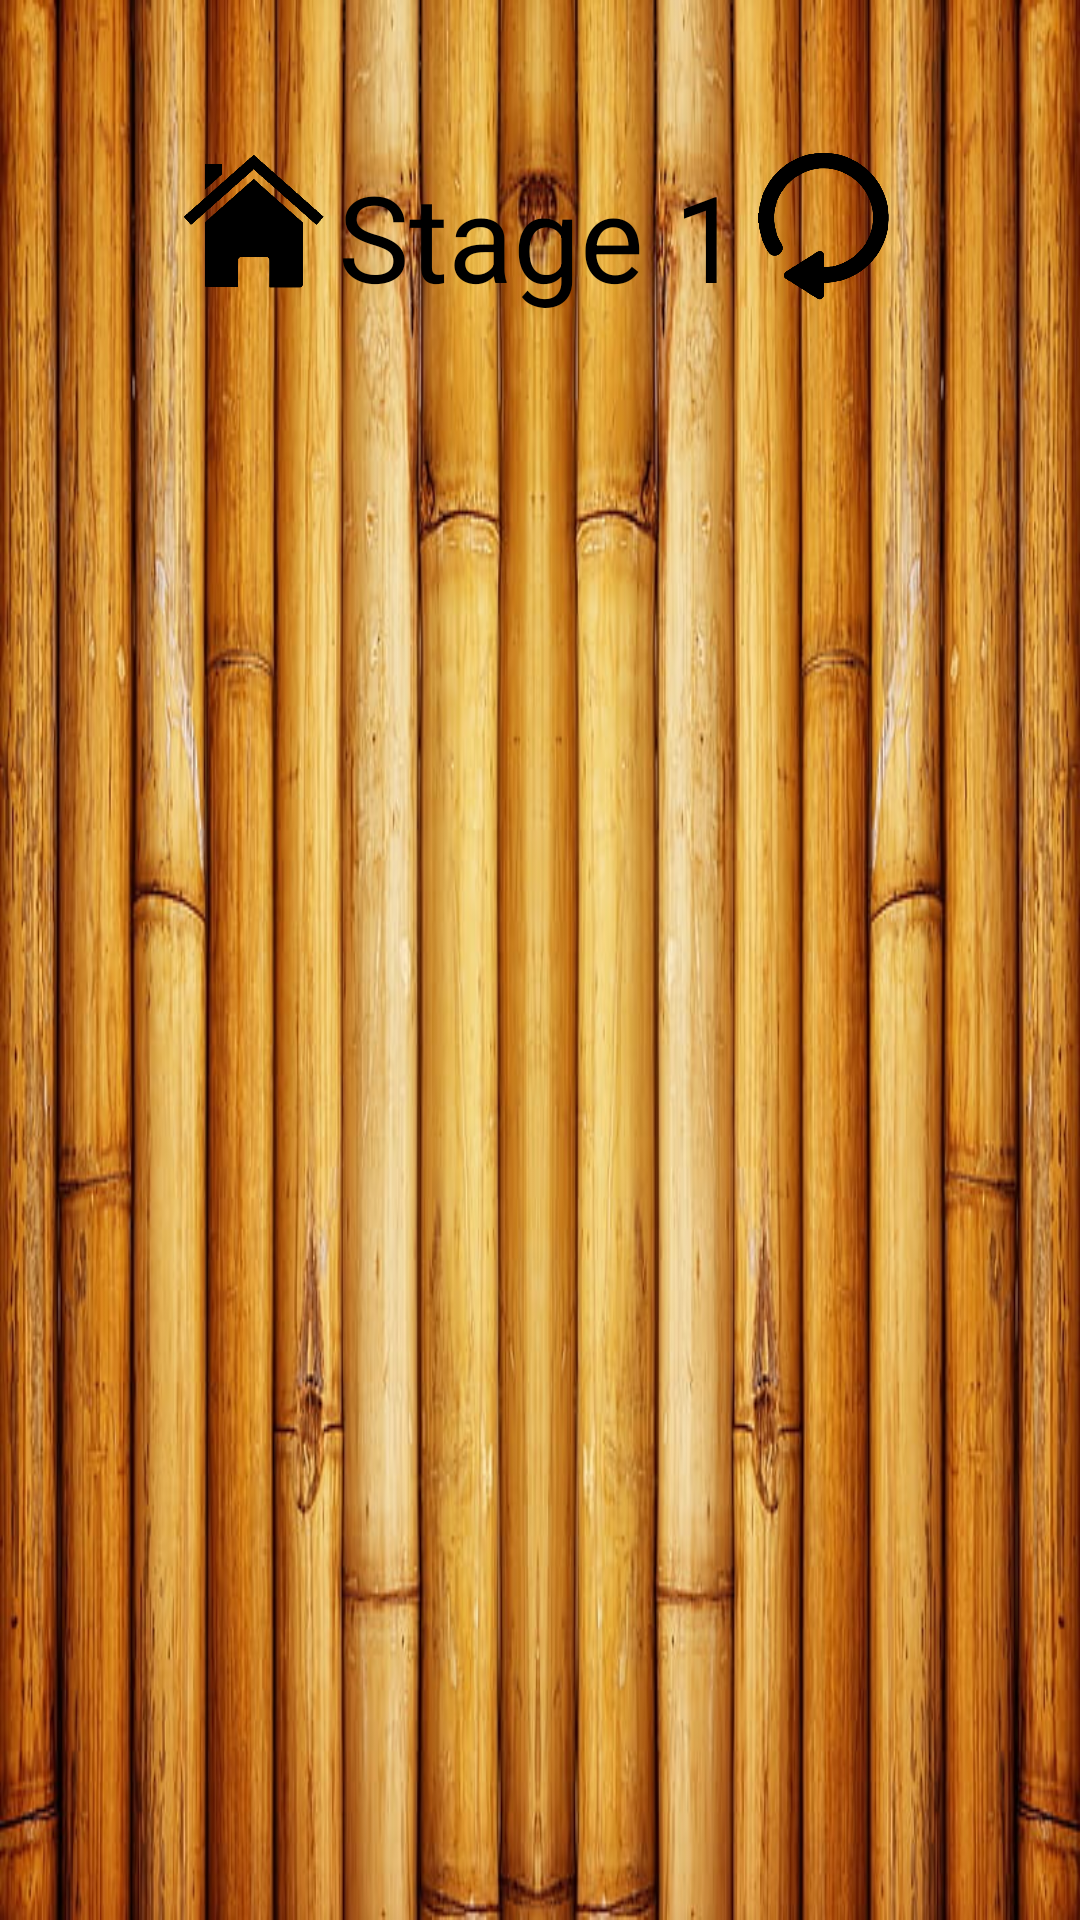

Icons on this 1080 x 1920 Android screen, each with the point to tap as (x,y):
home: (255,225)
replay: (825,225)
